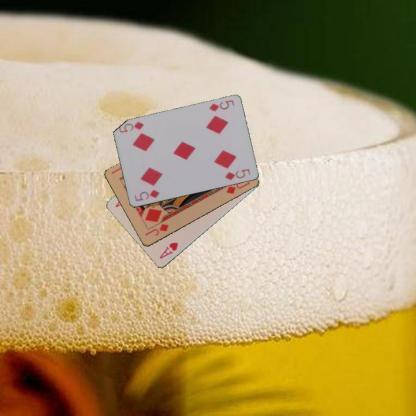5d: (132, 187, 160, 203), (206, 98, 235, 112)
Ah: (156, 240, 180, 260)
Jd: (143, 221, 170, 238)
